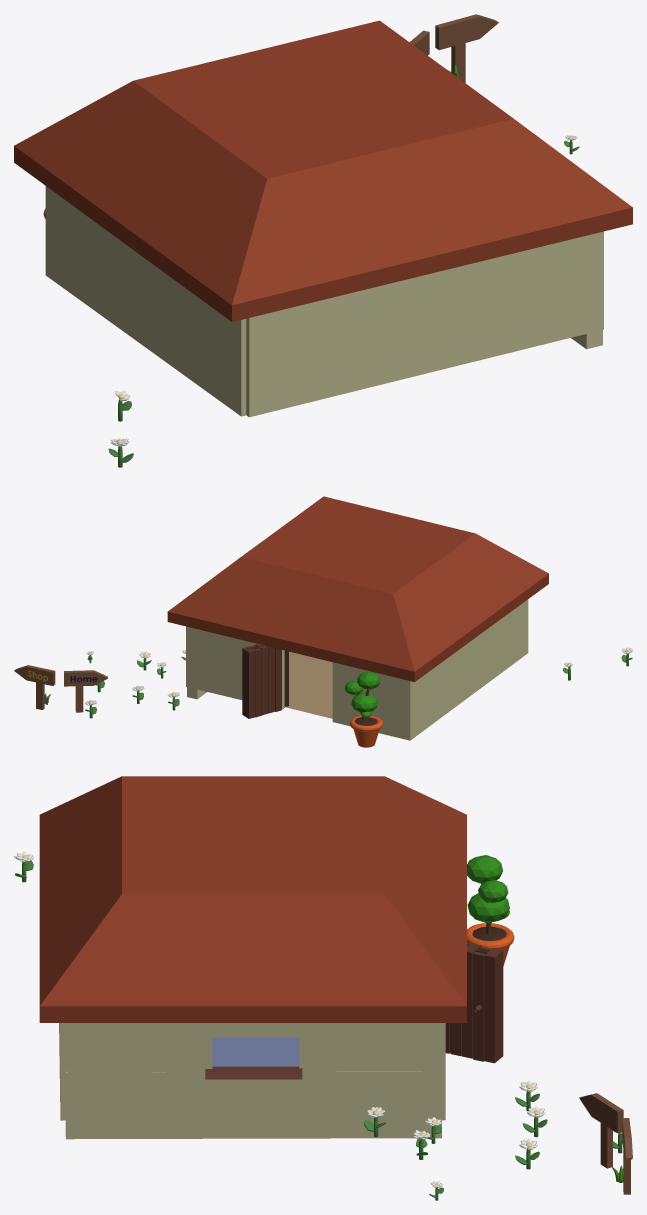
File: room2.glb
3 views of the same model, one above another, from view 1: azimuth 30°, elevation 25°; view 2: azimuth 150°, elevation 25°; view 3: azimuth 270°, elevation 25° (orthographic). The views are drawn at different scales.
Parts seen in each view (by area): view 1: Cube.002, Cube.085, Cube.086, Cube.330, Cube.083; view 2: Cube.002, Cube.086, Cube.083, Cube.084, Plane.001, Cube.078, Cube.331, Cube.330, Cube.079, Cube.082, Cube.080, Cube.138 (+1 smaller); view 3: Cube.002, Cube.087, Cube.335, Cube.337, Cube.338, Cube.336, Cube.078, Cube.331, Cylinder.167, Cube.082, Cube.084, Cube.079 (+5 smaller).
Boxes of the visible parts, x1,y1,x2,y2 form: Cube.002: [14, 20, 632, 321]; Cube.085: [246, 231, 603, 417]; Cube.086: [55, 193, 246, 416]; Cube.330: [435, 14, 498, 82]; Cube.083: [45, 186, 55, 281]; Cube.002: [167, 496, 548, 682]; Cube.086: [416, 599, 528, 735]; Cube.083: [332, 662, 416, 740]; Cube.084: [186, 626, 284, 709]; Plane.001: [285, 651, 332, 718]; Cube.078: [242, 646, 254, 718]; Cube.331: [64, 670, 107, 712]; Cube.330: [14, 665, 55, 709]; Cube.079: [255, 643, 268, 715]; Cube.082: [249, 645, 261, 717]; Cube.080: [267, 646, 274, 713]; Cube.138: [275, 648, 281, 711]; Cube.002: [39, 776, 466, 1022]; Cube.087: [65, 1071, 441, 1139]; Cube.335: [66, 1023, 441, 1037]; Cube.337: [67, 1037, 212, 1072]; Cube.338: [299, 1037, 426, 1071]; Cube.336: [212, 1037, 299, 1066]; Cube.078: [484, 948, 503, 1063]; Cube.331: [579, 1093, 623, 1168]; Cylinder.167: [205, 1066, 302, 1079]; Cube.082: [473, 946, 491, 1061]; Cube.084: [427, 1023, 445, 1120]; Cube.079: [462, 943, 481, 1058].
Bounding box in the file's own units: 35.55 × 10.77 × 27.98.
